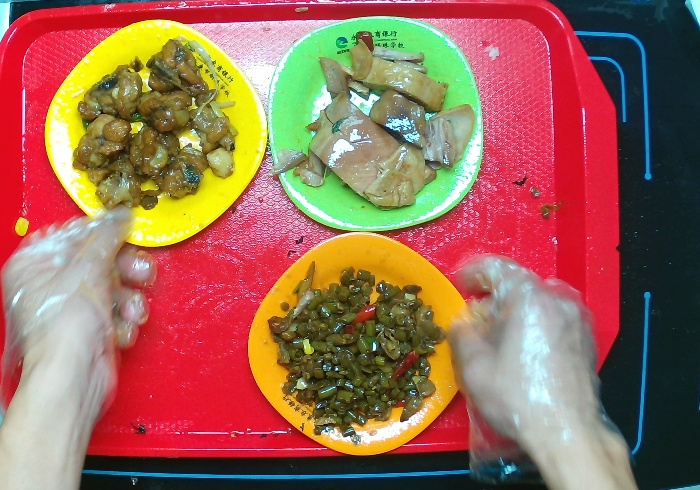YKMZ-Huang_Se_Fang_Die: (42, 20, 269, 245)
YKMZ-Ju_Se_Fang_Die: (250, 228, 480, 457)
YKMZ-Lv_Se_Fang_Die: (268, 15, 485, 231)
